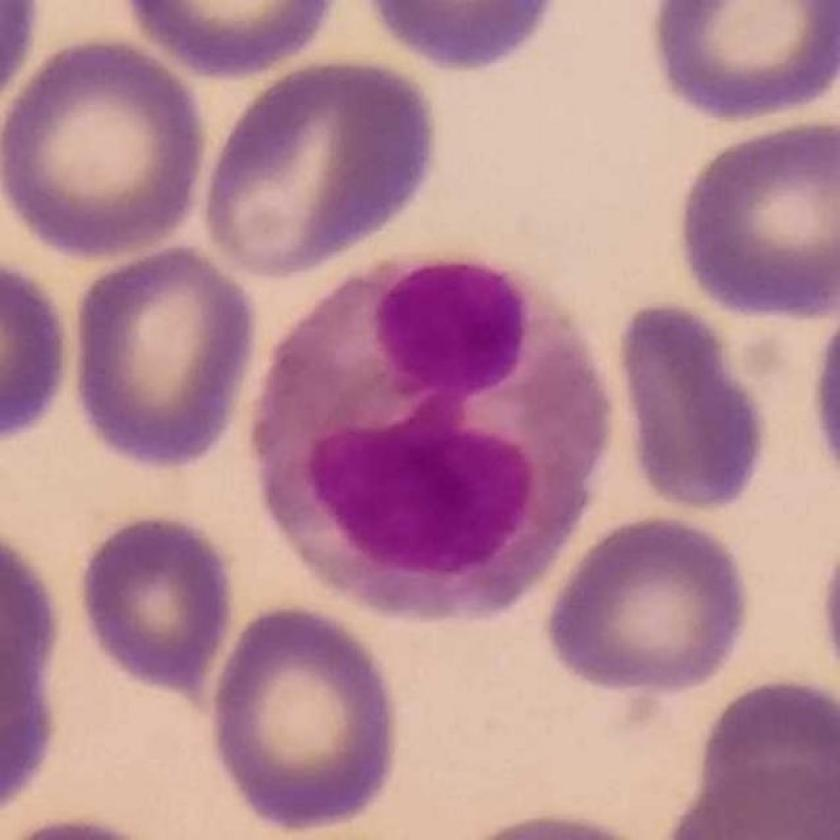eosinophil: (245, 252, 619, 627)
